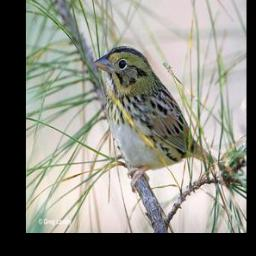Sparrow: (92, 43, 229, 192)
